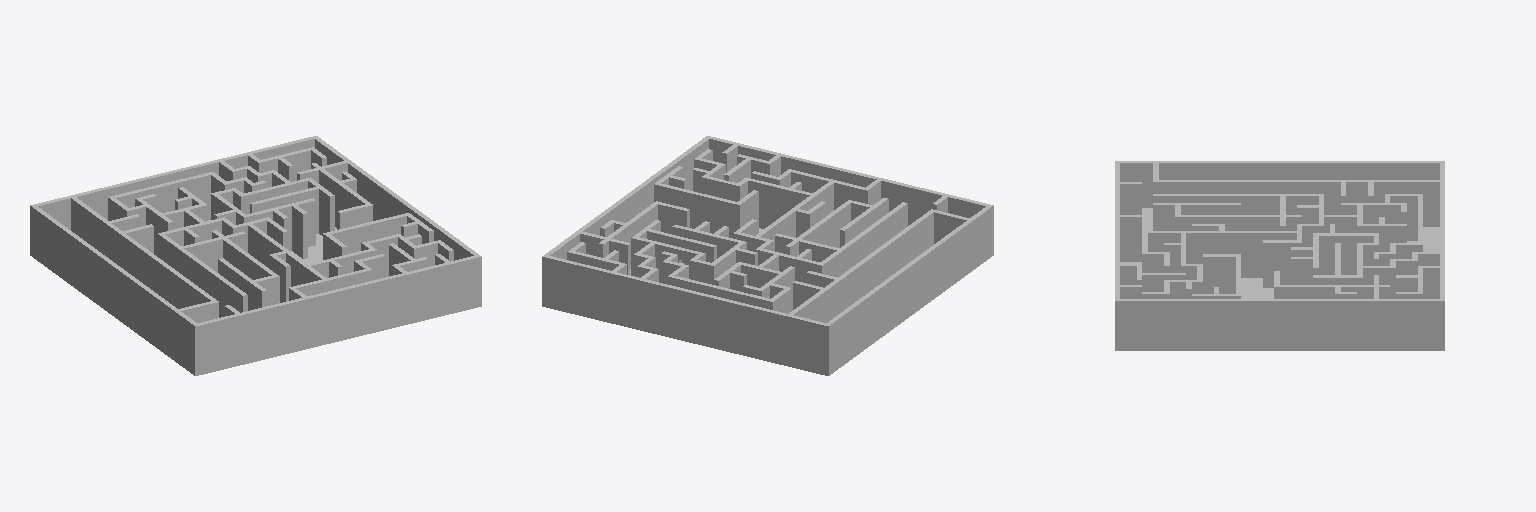
File: Map 5.obj
3 views of the same model, side by side, from view 1: azimuth 30°, elevation 25°; view 2: azimuth 150°, elevation 25°; view 3: azimuth 270°, elevation 25° (orthographic).
Visible parts, largest first — view 1: Map 5; view 2: Map 5; view 3: Map 5.
Boxes of the visible parts, <box> form: Map 5: <box>30,136,481,375</box>; Map 5: <box>542,136,993,375</box>; Map 5: <box>1115,161,1444,350</box>.
Size of the model in its own units: 60 by 10 by 60.